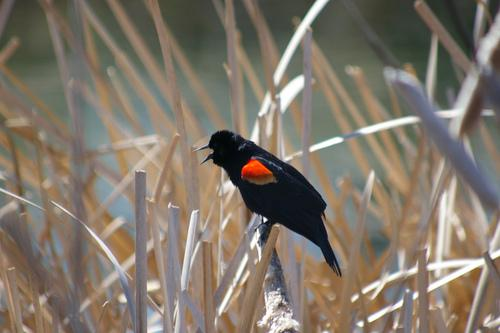010.Red_winged_Blackbird: (193, 129, 343, 277)
